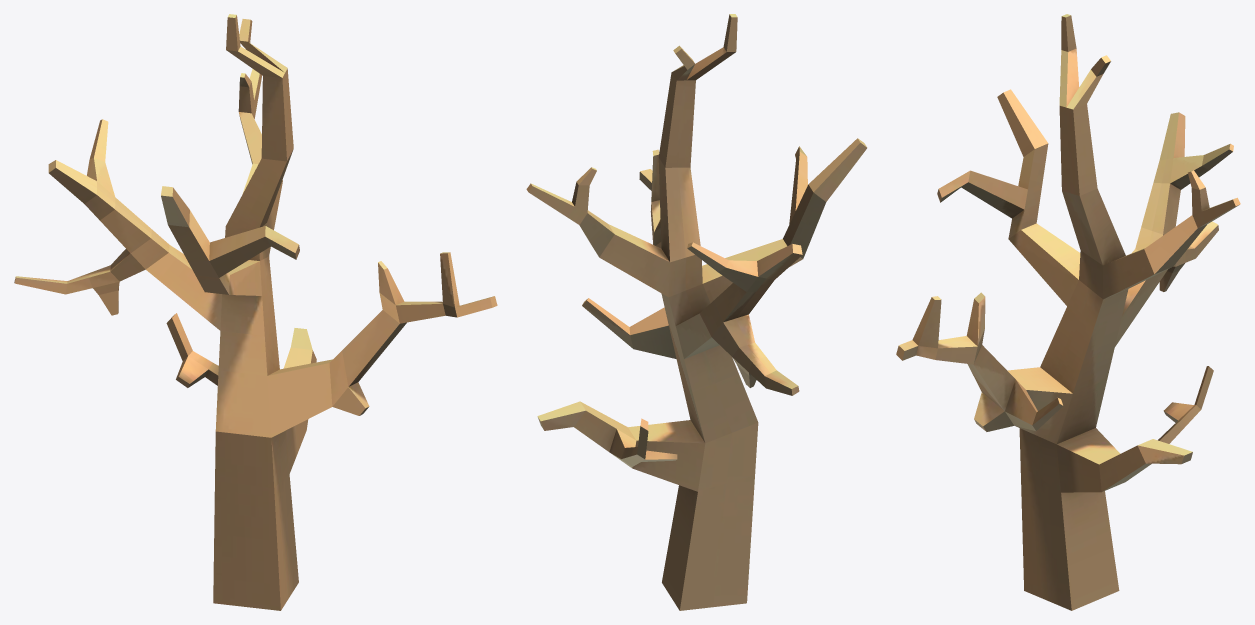
File: aPFov1IaCWu.glb
3 views of the same model, side by side, from view 1: azimuth 30°, elevation 25°; view 2: azimuth 150°, elevation 25°; view 3: azimuth 270°, elevation 25° (orthographic). The views are drawn at different scales.
Parts seen in each view (by area): view 1: dead_tree; view 2: dead_tree; view 3: dead_tree.
Part boxes in pixels (x1,y1,x2,y2): dead_tree: (14,14,497,610); dead_tree: (526,14,867,610); dead_tree: (896,14,1240,610).
Bounding box in the file's own units: 0.5753 × 1 × 0.555.
Materials: 1 (1 with a texture image).
